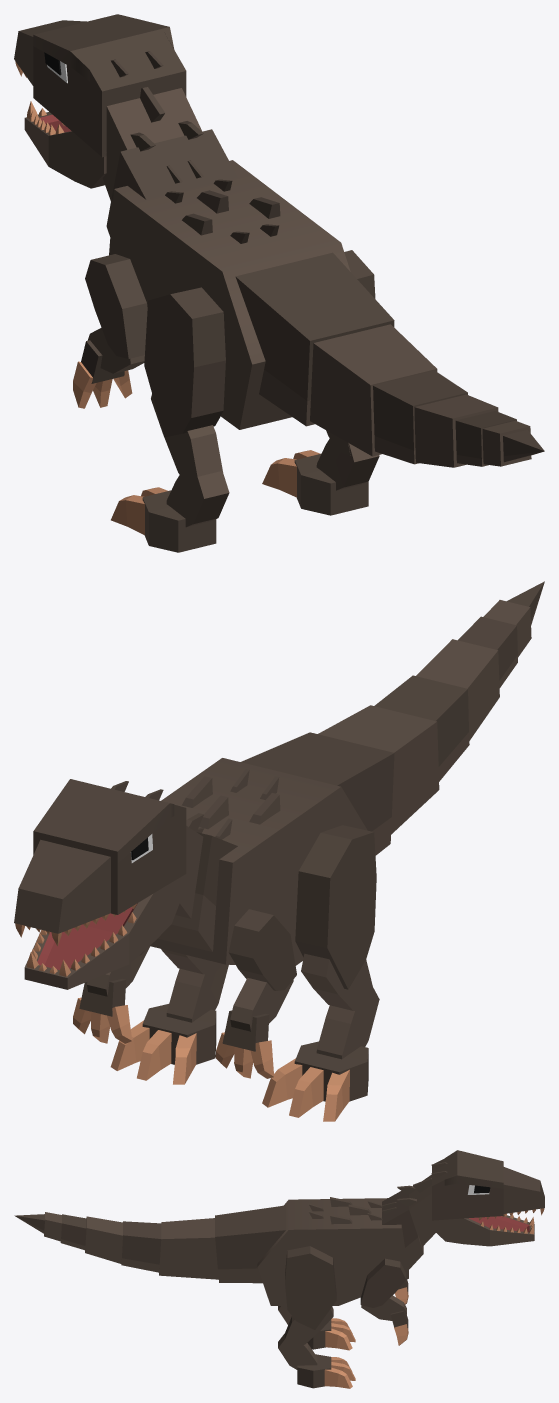
The model's file is raptor.obj.
3 views of the same model, one above another, from view 1: azimuth 30°, elevation 25°; view 2: azimuth 150°, elevation 25°; view 3: azimuth 270°, elevation 25° (orthographic). The views are drawn at different scales.
Parts seen in each view (by area): view 1: Torso, Head, Tail, LeftLeg, Meshes/set_10_trex_035 (1), Meshes/set_10_trex_029, Neck, LeftArm, Meshes/set_10_trex_036 (1), Meshes/set_10_trex_028, LeftFoot, RightFoot (+12 smaller); view 2: Head, Torso, LeftLeg, Tail, Meshes/set_10_trex_035 (1), Meshes/set_10_trex_036 (1), LeftArm, Meshes/set_10_trex_028, Meshes/set_10_trex_029, Meshes/set_10_trex_022 (1), Meshes/set_10_trex_004 (1), LeftBottomLeg (+14 smaller); view 3: Torso, Head, Tail, RightLeg, Meshes/set_10_trex_035 (1), Meshes/set_10_trex_036 (1), RightArm, Meshes/set_10_trex_028, Meshes/set_10_trex_029, Neck, RightBottomLeg, RightFoot (+8 smaller).
Boxes of the visible parts, <box> form: Torso: <box>109,160,350,429</box>; Head: <box>14,14,186,188</box>; Tail: <box>235,252,394,426</box>; LeftLeg: <box>144,287,225,437</box>; Meshes/set_10_trex_035 (1): <box>310,324,437,456</box>; Meshes/set_10_trex_029: <box>106,129,237,236</box>; Neck: <box>102,86,203,200</box>; LeftArm: <box>85,254,147,358</box>; Meshes/set_10_trex_036 (1): <box>373,370,467,464</box>; Meshes/set_10_trex_028: <box>414,394,498,467</box>; LeftFoot: <box>142,490,216,552</box>; RightFoot: <box>294,453,368,515</box>; Head: <box>14,779,186,989</box>; Torso: <box>150,758,367,965</box>; LeftLeg: <box>295,825,376,989</box>; Tail: <box>241,732,394,855</box>; Meshes/set_10_trex_035 (1): <box>318,705,439,834</box>; Meshes/set_10_trex_036 (1): <box>374,675,469,781</box>; LeftArm: <box>228,909,296,990</box>; Meshes/set_10_trex_028: <box>416,639,499,740</box>; Meshes/set_10_trex_029: <box>158,828,237,951</box>; Meshes/set_10_trex_022 (1): <box>262,1058,349,1121</box>; Meshes/set_10_trex_004 (1): <box>110,1020,196,1084</box>; LeftBottomLeg: <box>316,987,379,1059</box>; Torso: <box>257,1197,408,1305</box>; Head: <box>431,1150,544,1246</box>; Tail: <box>215,1205,285,1283</box>; RightLeg: <box>285,1246,336,1329</box>; Meshes/set_10_trex_035 (1): <box>159,1218,218,1279</box>; Meshes/set_10_trex_036 (1): <box>121,1221,161,1272</box>; RightArm: <box>360,1258,405,1307</box>; Meshes/set_10_trex_028: <box>85,1216,122,1263</box>; Meshes/set_10_trex_029: <box>382,1191,423,1269</box>; Neck: <box>397,1174,435,1246</box>; RightBottomLeg: <box>278,1333,317,1369</box>; RightFoot: <box>297,1354,331,1388</box>.
Size of the model in its own units: 5.77 by 9.32 by 22.68.
